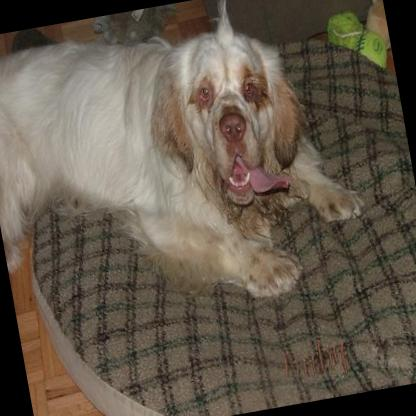clumber: (0, 0, 375, 340)
